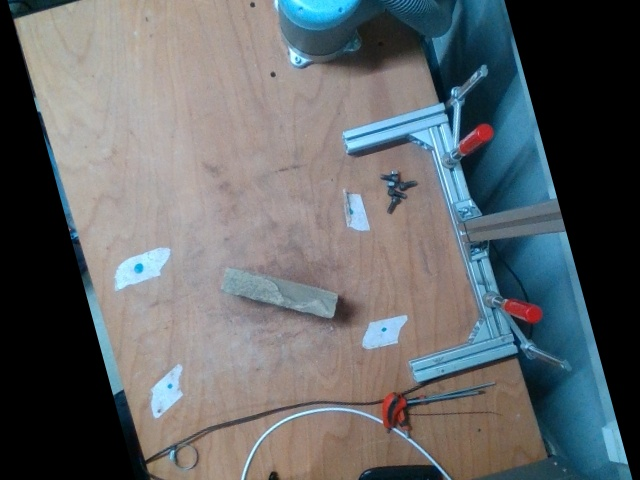brick-side: (220, 270, 338, 317)
